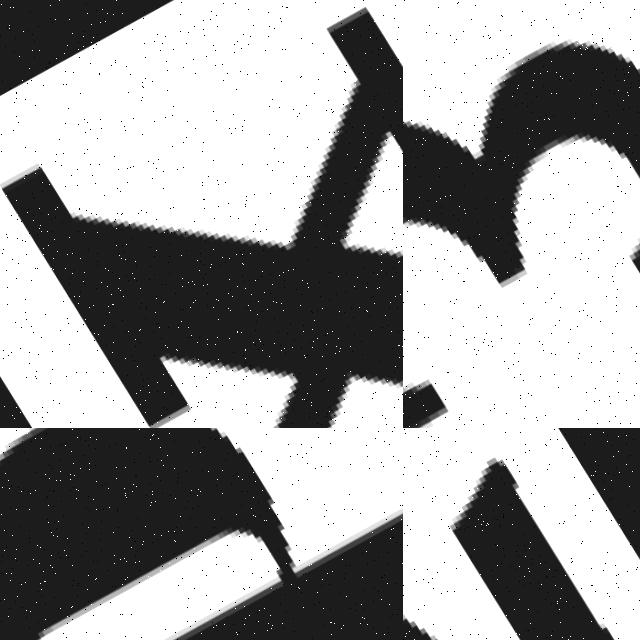3: (403, 0, 640, 428)
5: (403, 430, 640, 640)
B: (0, 428, 403, 640)
X: (0, 0, 403, 428)
